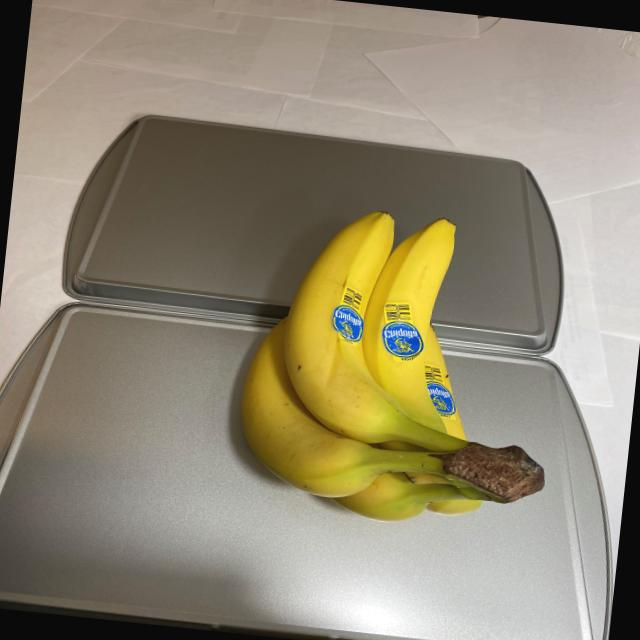banana: (214, 194, 581, 542)
